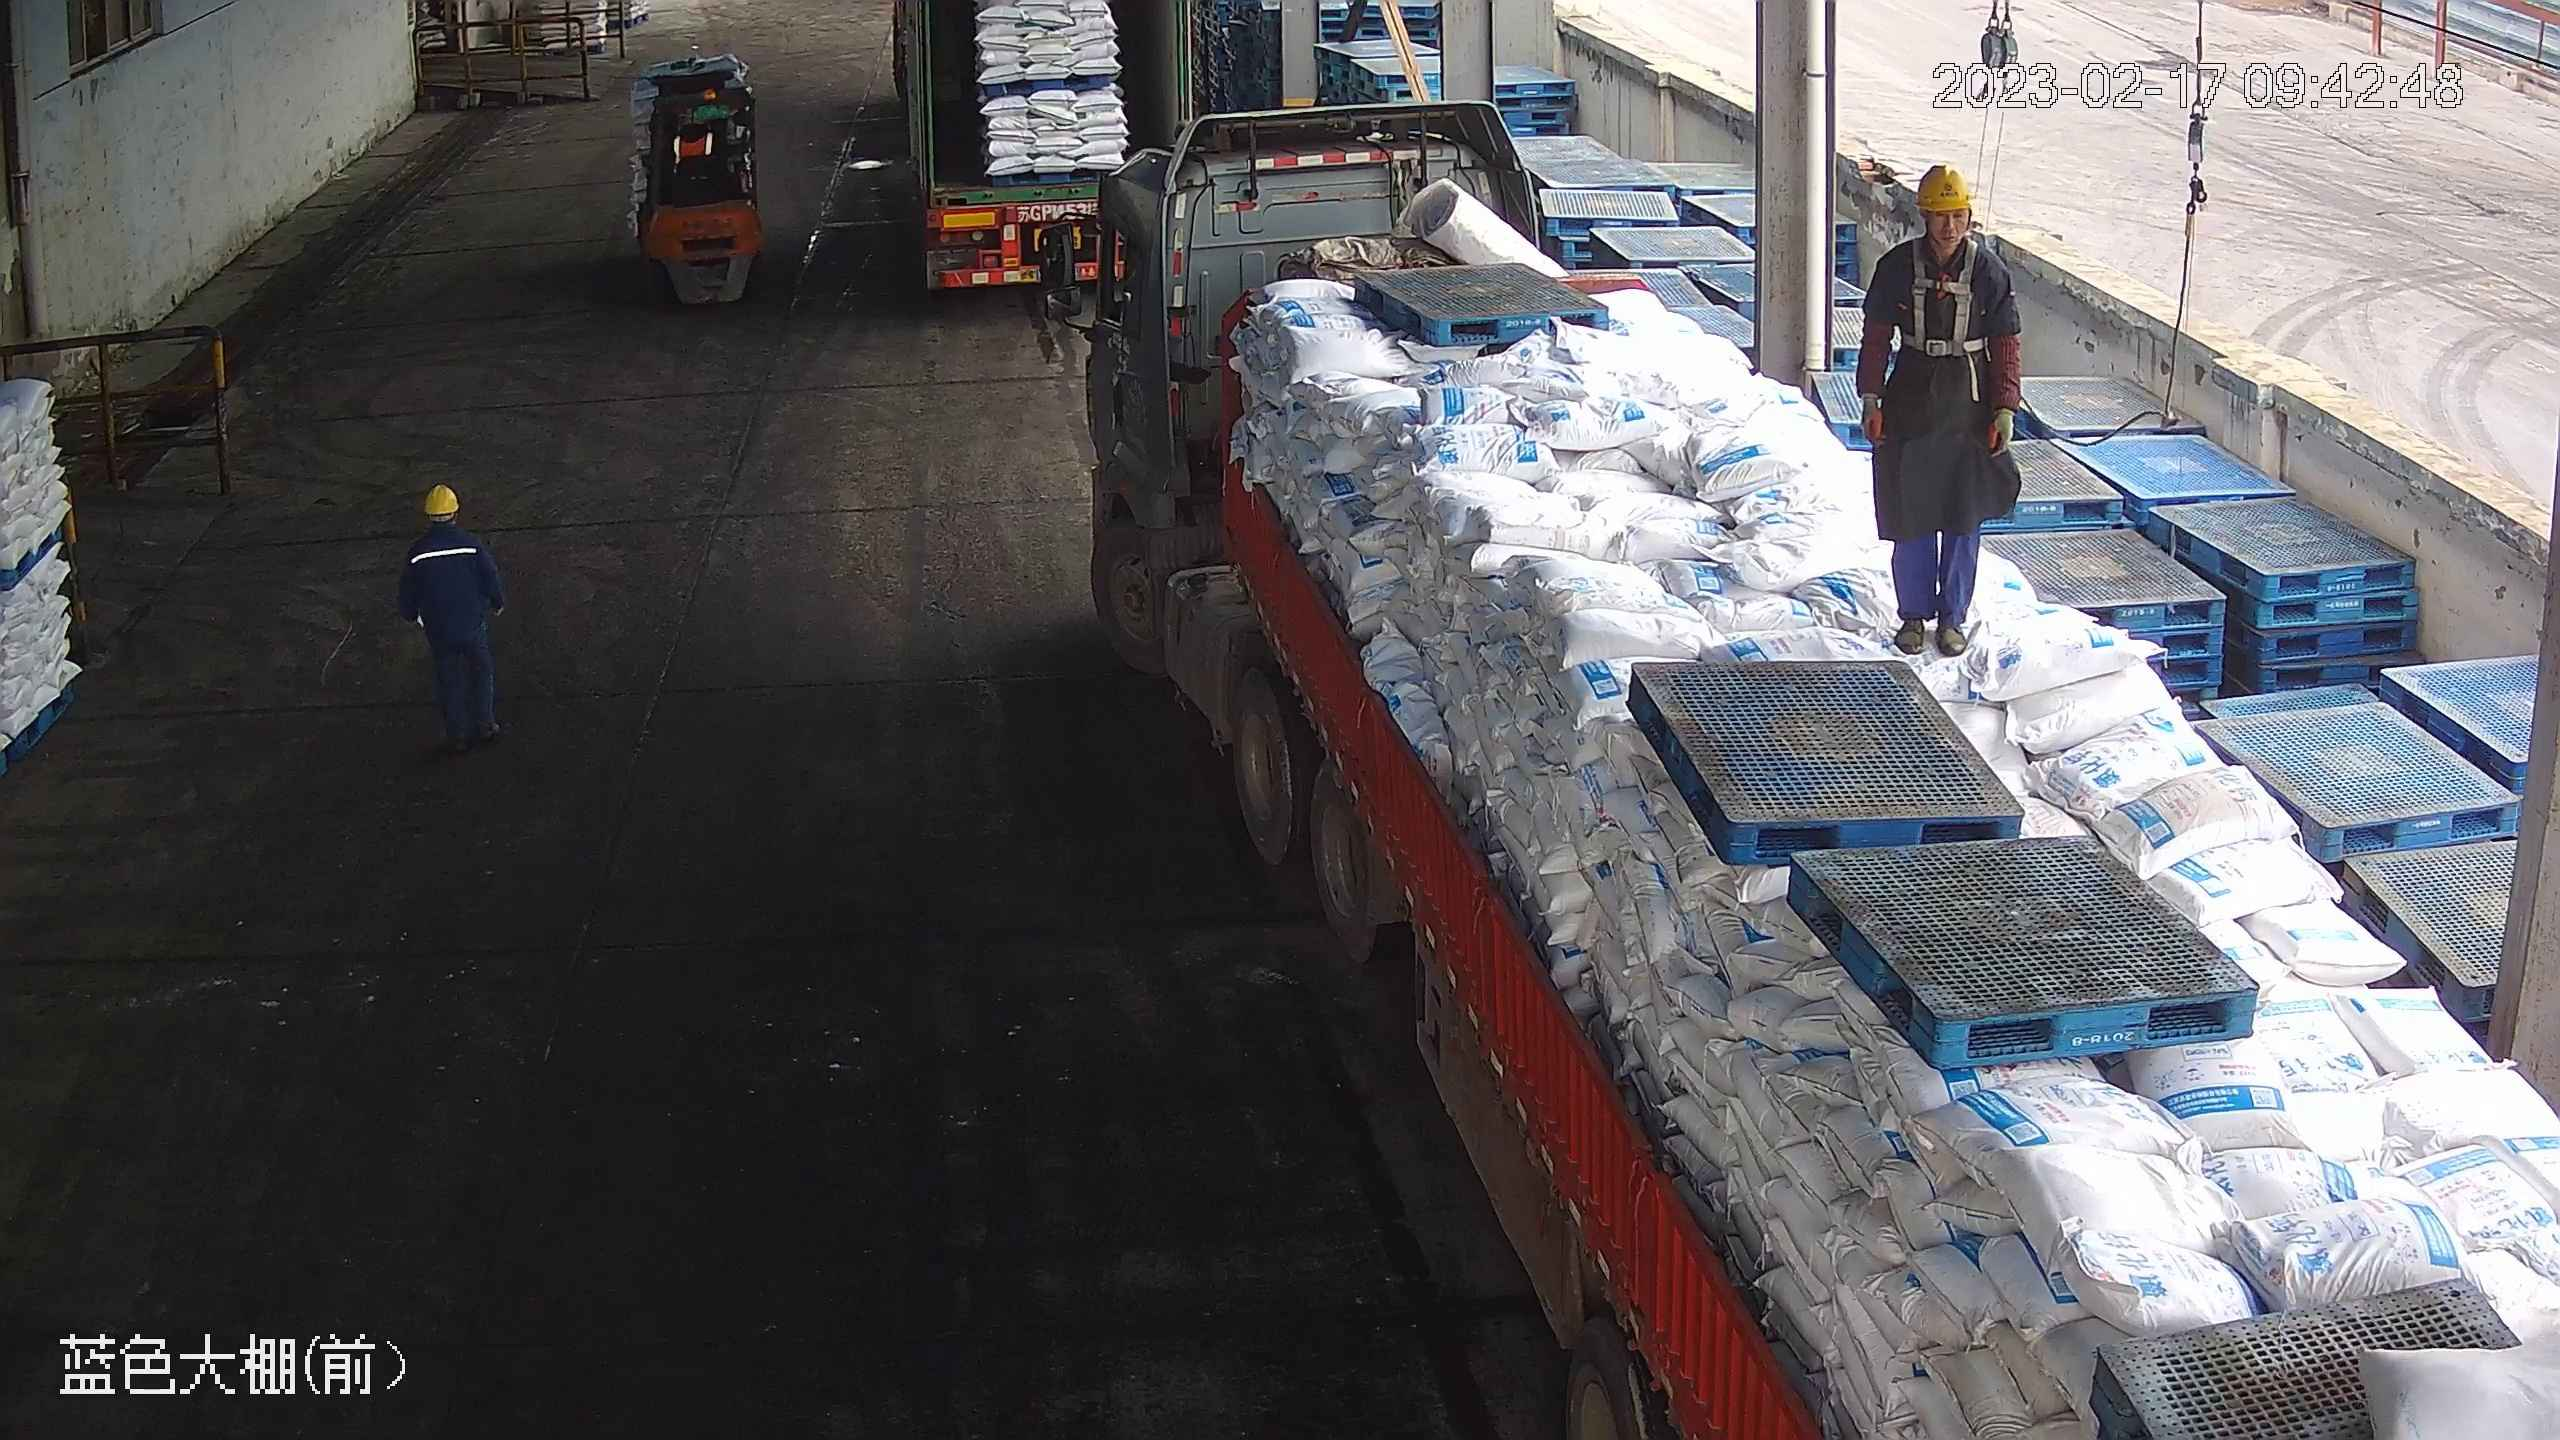belt: (1898, 229, 1995, 355)
head: (1871, 164, 2014, 292), (406, 483, 485, 561)
helmet: (1910, 160, 1972, 212), (421, 482, 460, 515)
people: (1857, 159, 2024, 661), (395, 482, 512, 749)
truck: (1049, 127, 2558, 1440), (889, 1, 1186, 290)
